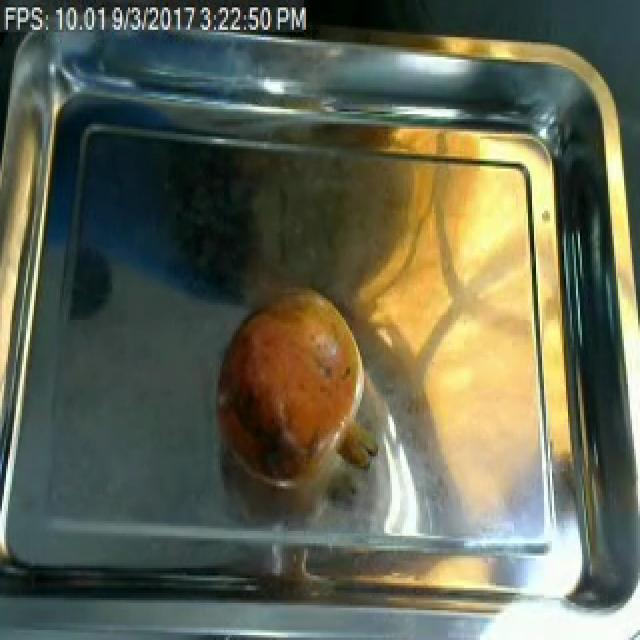fruit: (208, 276, 380, 504)
